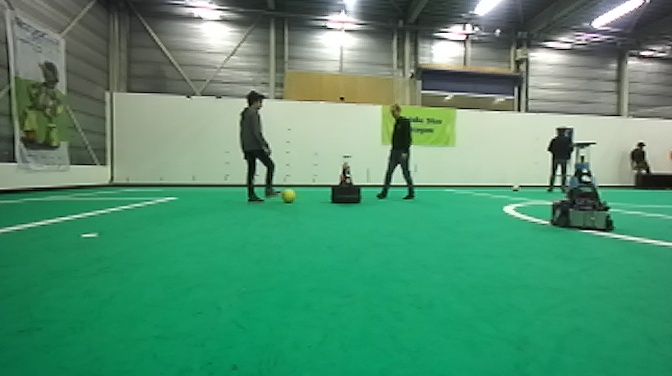ball: (279, 185, 297, 205), (509, 182, 521, 193)
human: (235, 89, 277, 204), (373, 101, 417, 202), (547, 126, 575, 193), (629, 138, 659, 187)
robot: (549, 140, 616, 233), (329, 152, 362, 206)
